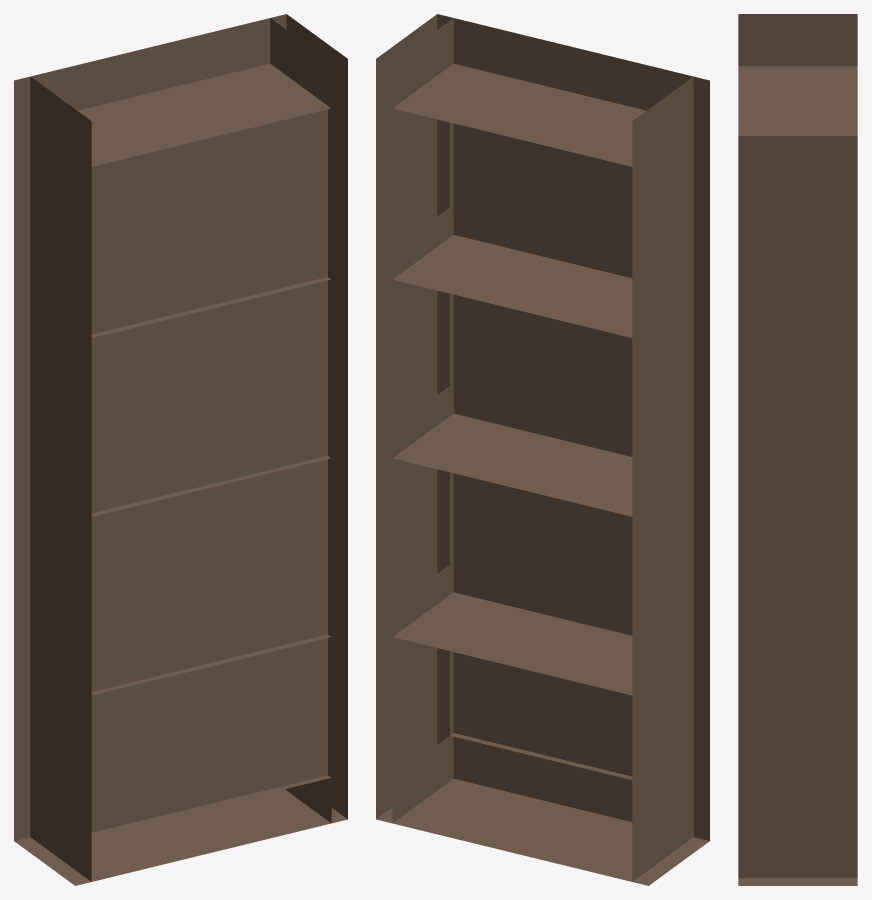
File: ikea-laiva.glb
The picture shows the model from 3 angles, left to right: view 1: azimuth 30°, elevation 25°; view 2: azimuth 150°, elevation 25°; view 3: azimuth 270°, elevation 25°; orthographic projection. The views are drawn at different scales.
Parts seen in each view (by area): view 1: ikea-laiva; view 2: ikea-laiva; view 3: ikea-laiva.
Part boxes in pixels (<box>): ikea-laiva: <box>14,14,347,885</box>; ikea-laiva: <box>376,14,709,885</box>; ikea-laiva: <box>738,14,857,885</box>.
Bounding box in the file's own units: 0.619 × 1.65 × 0.241.
